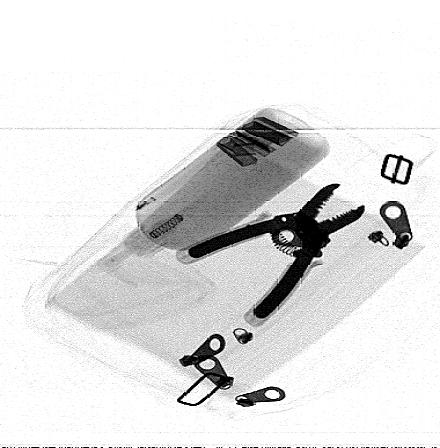Pliers: (187, 183, 365, 322)
